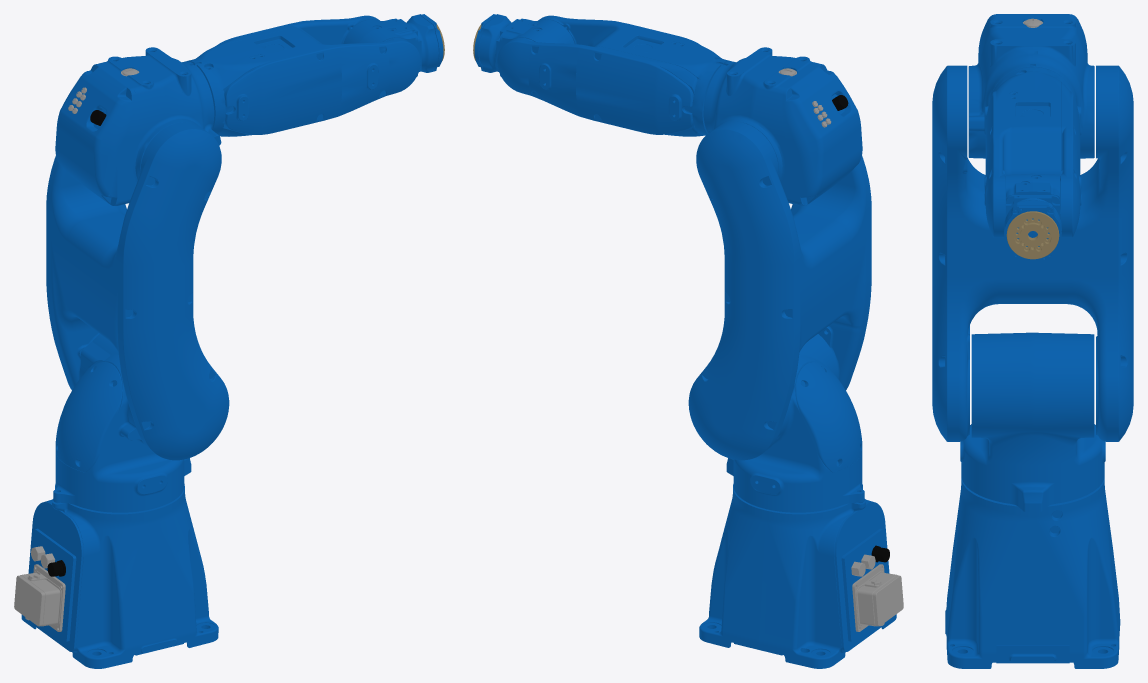
File: Yaskawa_AR700.glb
The picture shows the model from 3 angles, left to right: view 1: azimuth 30°, elevation 25°; view 2: azimuth 150°, elevation 25°; view 3: azimuth 270°, elevation 25°; orthographic projection. The views are drawn at different scales.
Visible parts, largest first — view 1: link_2, link_0, link_4, link_3, link_1, link_5; view 2: link_2, link_0, link_4, link_3, link_1, link_5; view 3: link_2, link_0, link_1, link_4, link_3, link_5, link_6.
Boxes of the visible parts, <box> form: link_2: <box>46,122,229,460</box>; link_0: <box>14,484,218,668</box>; link_4: <box>187,15,420,136</box>; link_3: <box>55,47,221,205</box>; link_1: <box>53,334,191,512</box>; link_5: <box>343,14,443,76</box>; link_2: <box>688,121,871,460</box>; link_0: <box>699,484,903,668</box>; link_4: <box>497,15,730,136</box>; link_3: <box>703,47,862,205</box>; link_1: <box>726,334,864,512</box>; link_5: <box>474,14,574,76</box>; link_2: <box>932,65,1133,441</box>; link_0: <box>945,478,1120,668</box>; link_1: <box>960,332,1105,511</box>; link_4: <box>984,67,1081,237</box>; link_3: <box>968,14,1094,158</box>; link_5: <box>1004,173,1061,260</box>; link_6: <box>1006,211,1059,259</box>.
Size of the model in its own units: 0.5973 by 0.7781 by 0.23.
